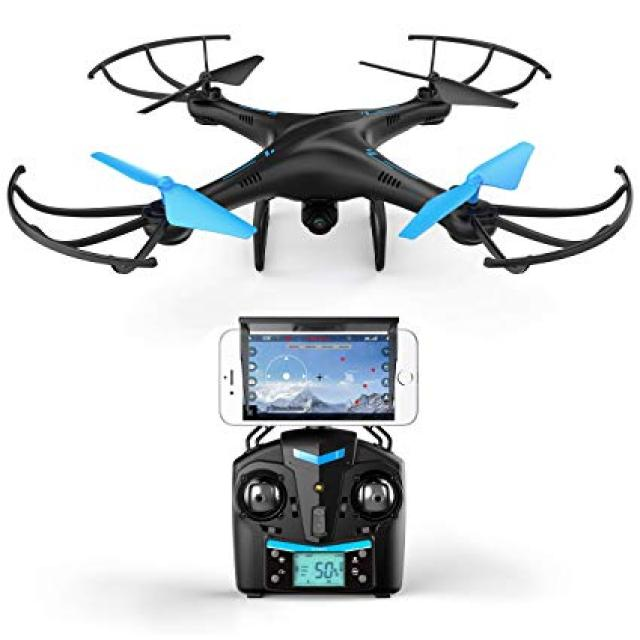drone: (27, 32, 639, 316)
